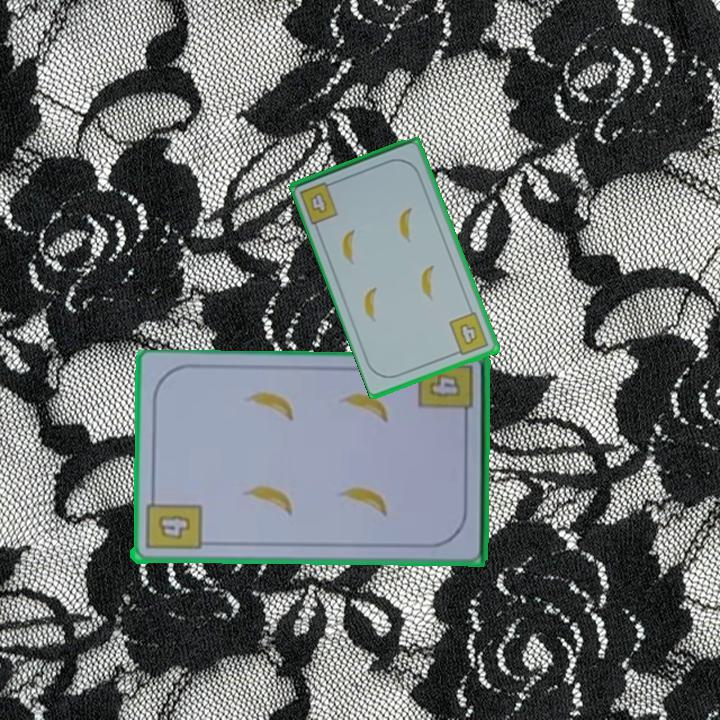4b: (142, 490, 203, 553), (446, 309, 492, 359), (296, 177, 341, 227), (424, 370, 463, 402)
